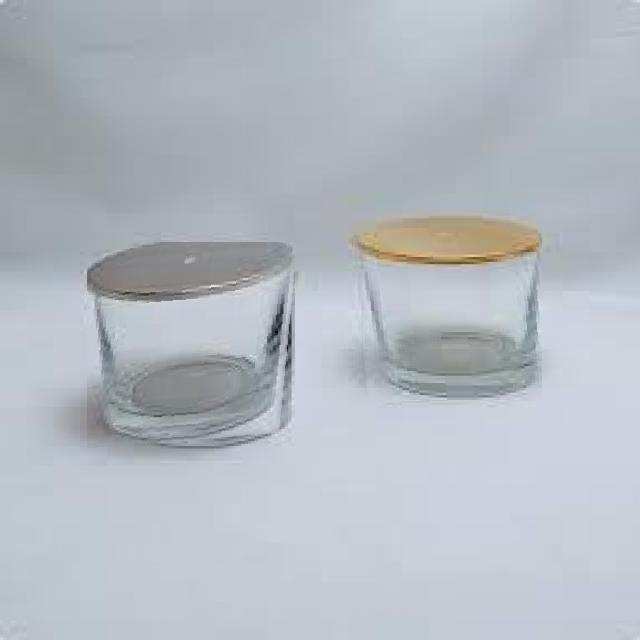Glass: (87, 242, 299, 450), (350, 212, 542, 401)
